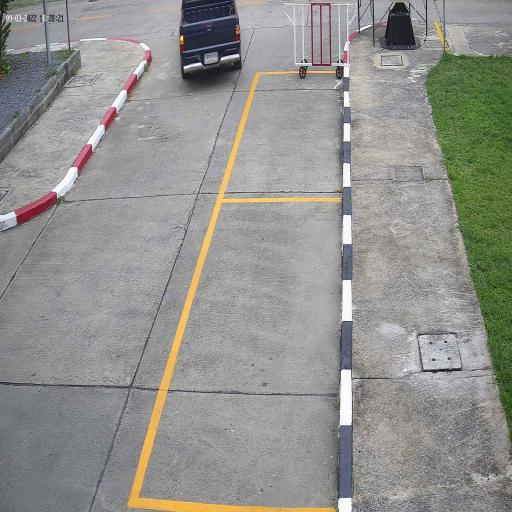car: (178, 0, 243, 79)
